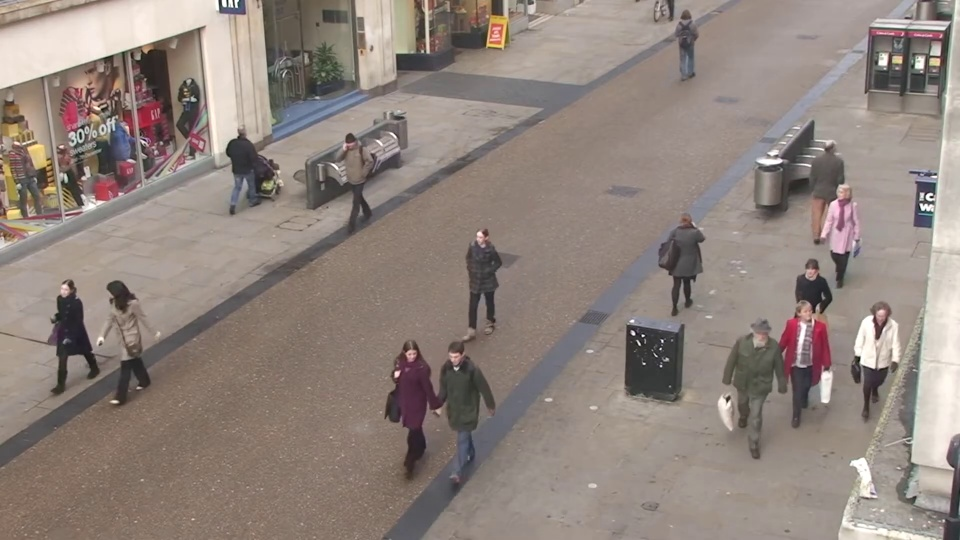pedestrian: (845, 301, 903, 448), (33, 275, 96, 410), (382, 339, 436, 491), (734, 320, 788, 470), (83, 280, 142, 417), (427, 346, 479, 500), (768, 295, 821, 439), (780, 259, 829, 394), (454, 228, 497, 355), (815, 182, 859, 297), (668, 204, 708, 323), (812, 135, 852, 237), (328, 132, 364, 232), (233, 115, 269, 208), (675, 7, 699, 74)
